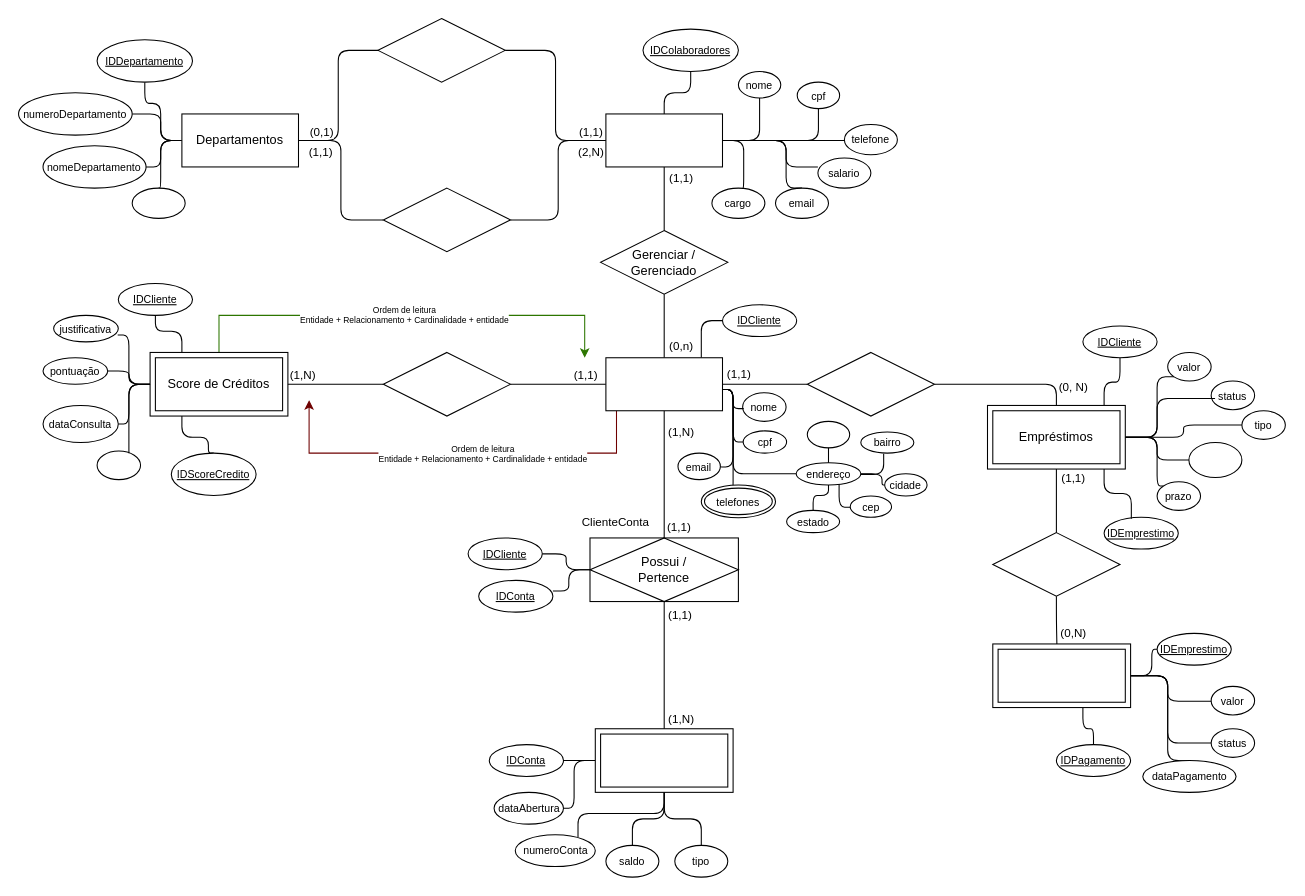
Some shapes in this 1305 by 896 pixel diagram are drawn without their labels. Each missing label, with the centre of its shape:
"Clientes" belongs at point (663, 384).
"Colaboradores" belongs at point (663, 140).
"Conta" belongs at point (663, 760).
"Contem / Pertence" belongs at point (446, 219).
"Conter / Contido" belongs at point (1056, 564).
"Conter / Pertence" belongs at point (446, 383).
"dataInicio" belongs at point (1215, 459).
"Fazer / Feito" belongs at point (870, 383).
"fonte" belongs at point (118, 465).
"Gerencia / Gerenciado" belongs at point (441, 49).
"gerente" belongs at point (158, 202).
"Pagamentos" belongs at point (1061, 675).
"rua" belongs at point (828, 434).
